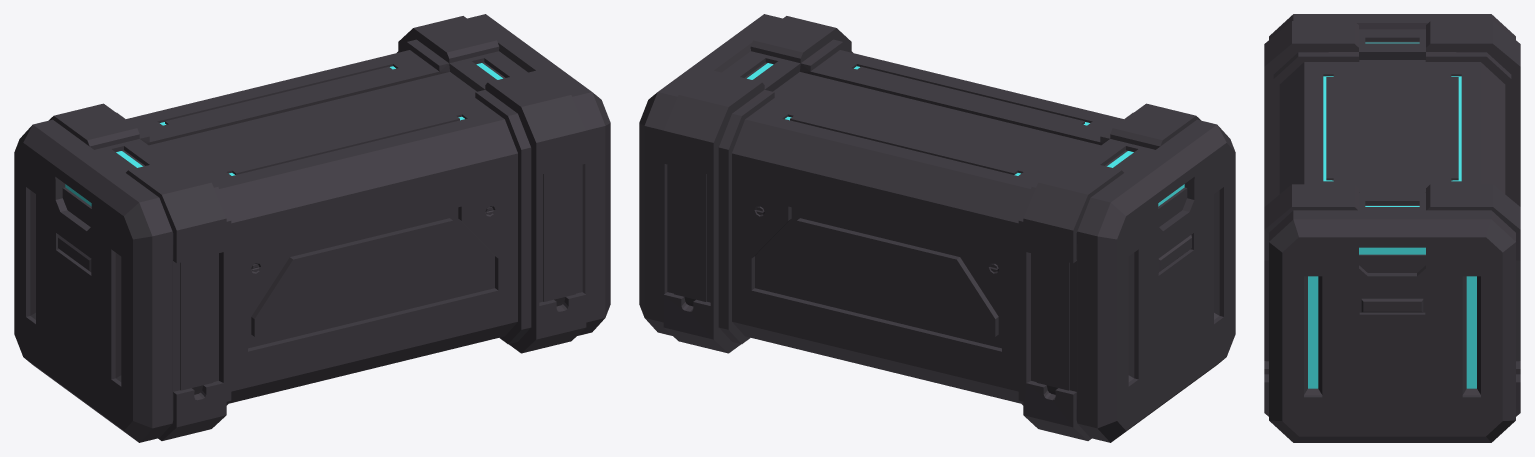
Rendered from SM_Props_Box_02.fbx.
3 views of the same model, side by side, from view 1: azimuth 30°, elevation 25°; view 2: azimuth 150°, elevation 25°; view 3: azimuth 270°, elevation 25° (orthographic). The views are drawn at different scales.
Visible parts, largest first — view 1: SM_Props_Box_02; view 2: SM_Props_Box_02; view 3: SM_Props_Box_02.
Part boxes in pixels (x1=…): SM_Props_Box_02: x1=14, y1=14, x2=610, y2=442; SM_Props_Box_02: x1=639, y1=14, x2=1235, y2=442; SM_Props_Box_02: x1=1264, y1=14, x2=1520, y2=442.
Bounding box in the file's own units: 1.19 × 0.5868 × 0.5957.
